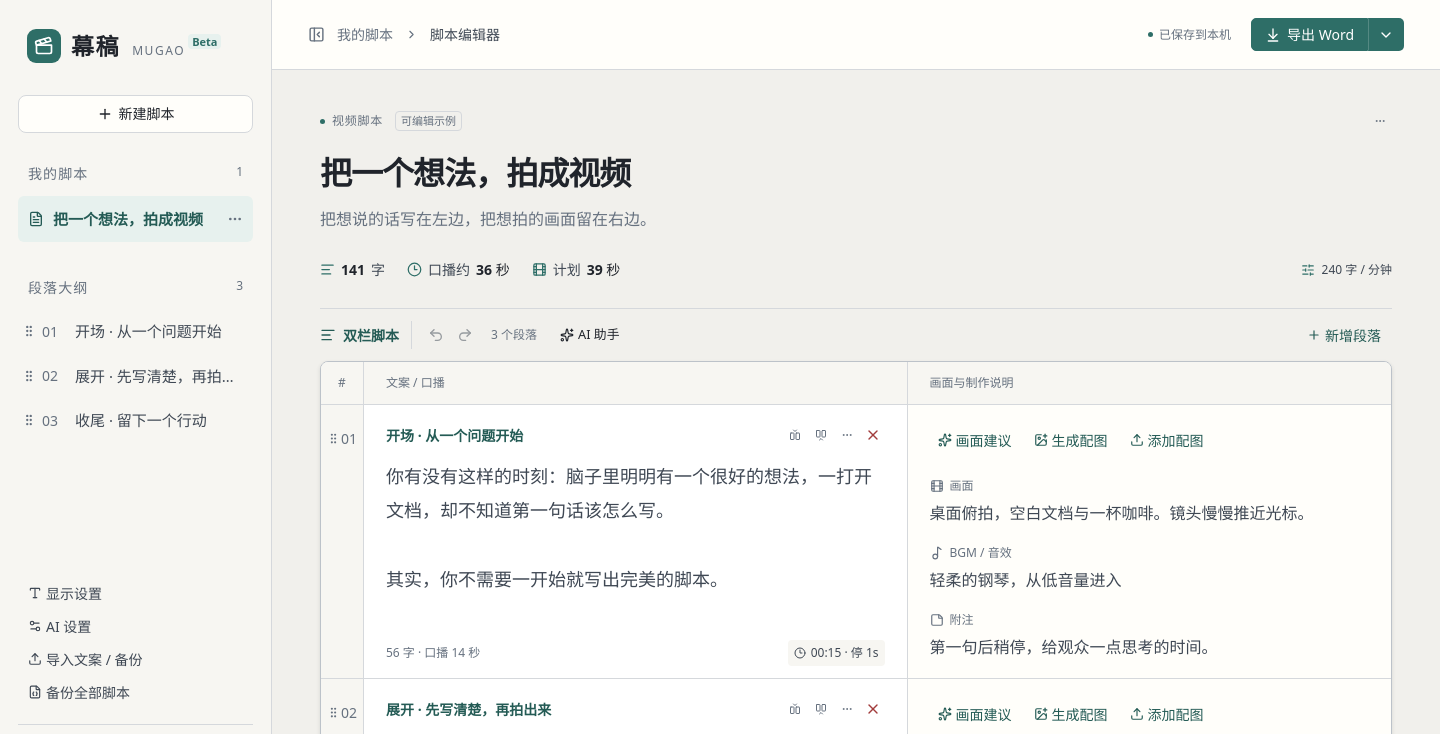
Test: 编辑器实际组件流程（非浏览器视觉测试） › 可从段落标题旁在上方或下方插入空白段落
Expected: the button with class "save-status" reads "已保存到本机", [1148,18,1231,51]
Click the button named "在第1段上方插入段落".
click(795, 435)  # box [783,423,807,447]
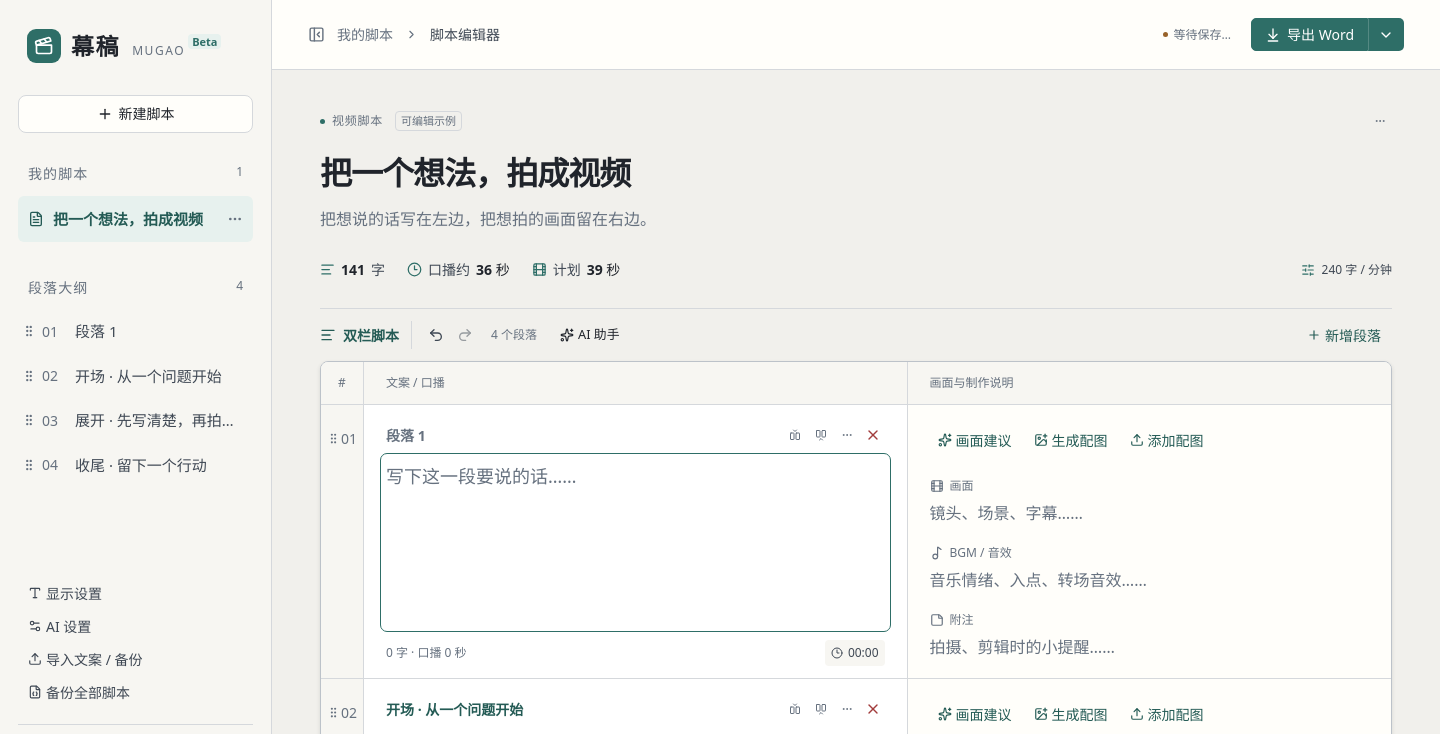
Now the text box named "第1段文案" is empty, box [386,459,885,626]
Click the button named "在第2段下方插入段落".
click(821, 709)  # box [809,697,833,721]
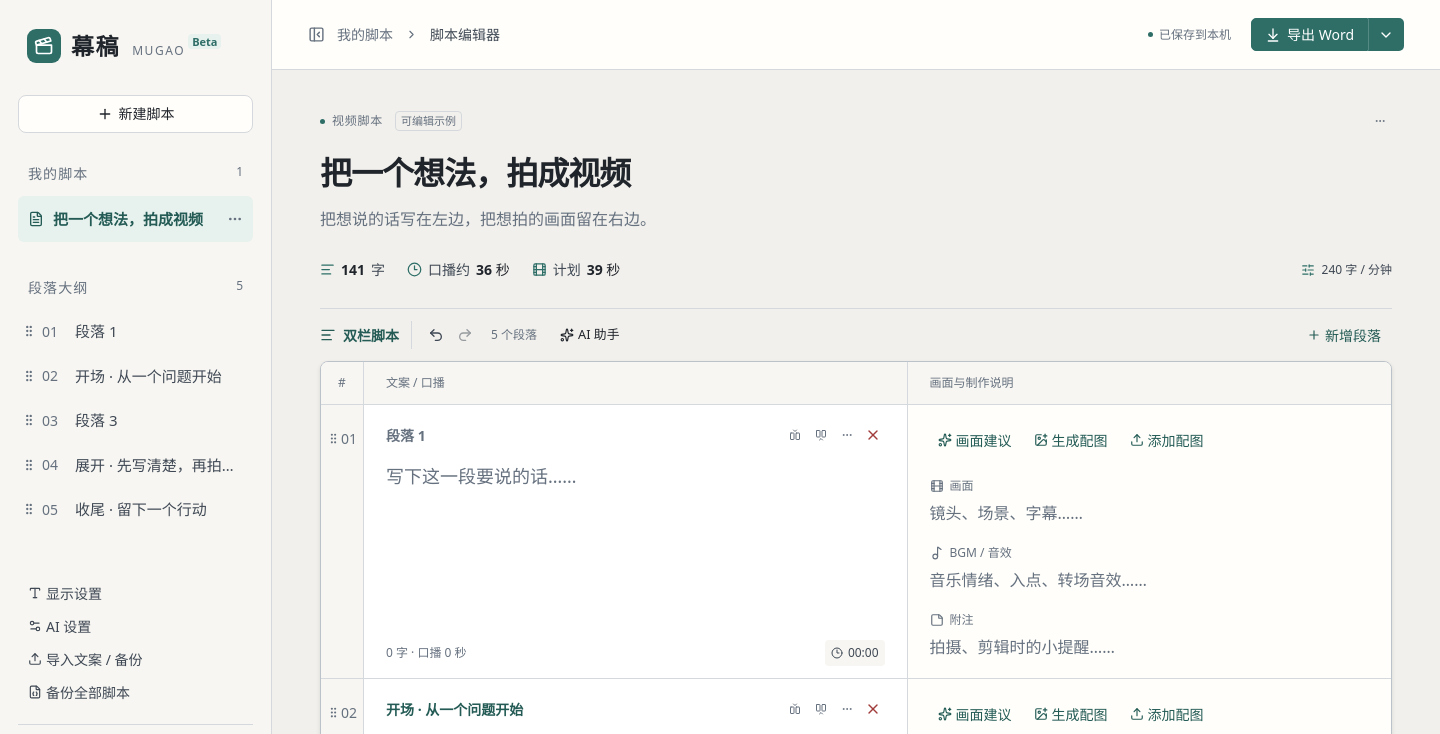
Now the button with class "save-status" reads "已保存到本机", box [1148,18,1231,51]
